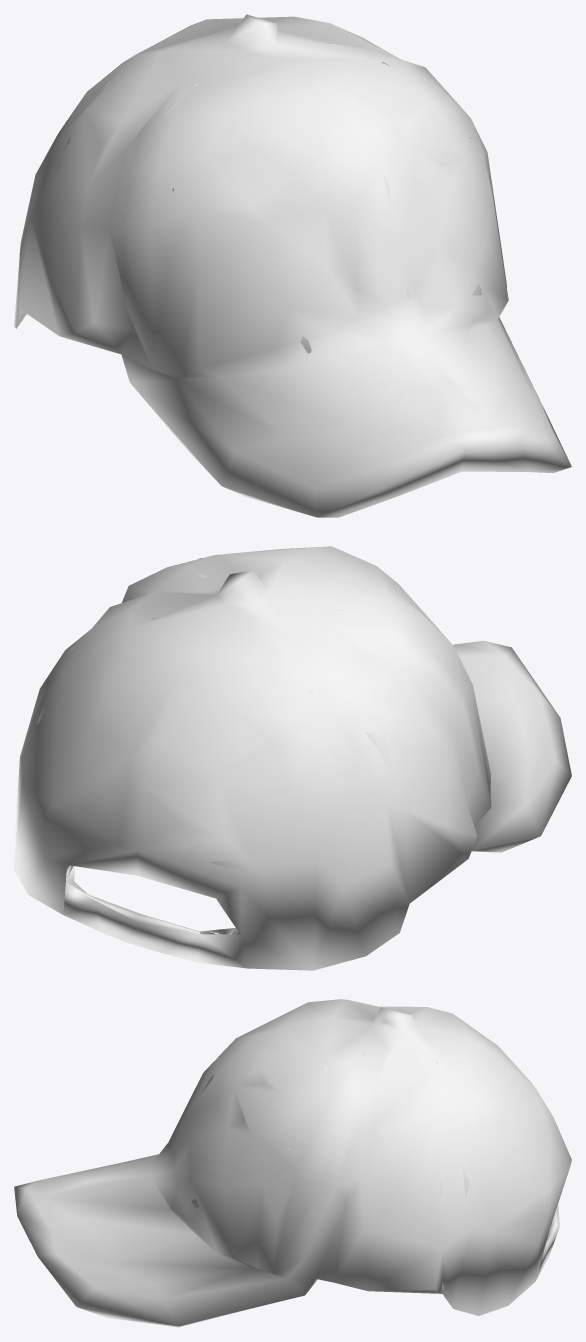
The model's file is hat-cap.glb.
The picture shows the model from 3 angles, top to bottom: view 1: azimuth 30°, elevation 25°; view 2: azimuth 150°, elevation 25°; view 3: azimuth 270°, elevation 25°; orthographic projection. The views are drawn at different scales.
Visible parts, largest first — view 1: Body; view 2: Body; view 3: Body.
Boxes of the visible parts, x1,y1,x2,y2 form: Body: (14,14,571,517); Body: (14,546,571,970); Body: (14,999,571,1327).
Size of the model in its own units: 0.6802 by 0.5191 by 0.9912.
Materials: 1 (1 with a texture image).
